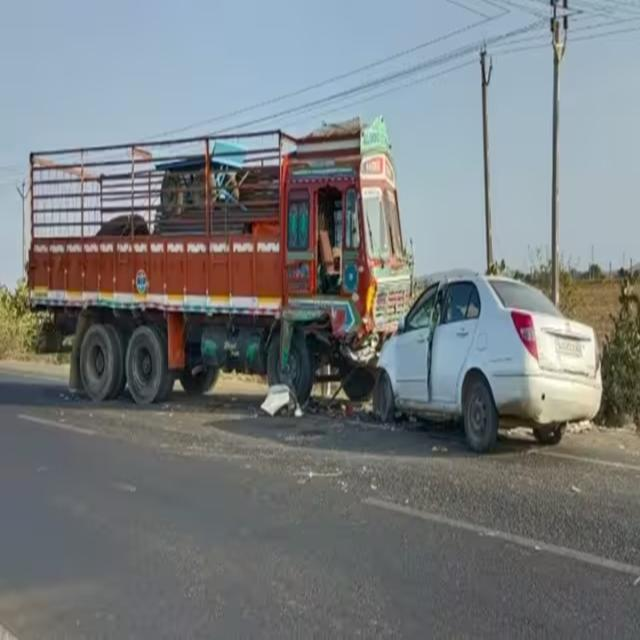accident: (28, 119, 409, 403), (375, 270, 601, 452)
